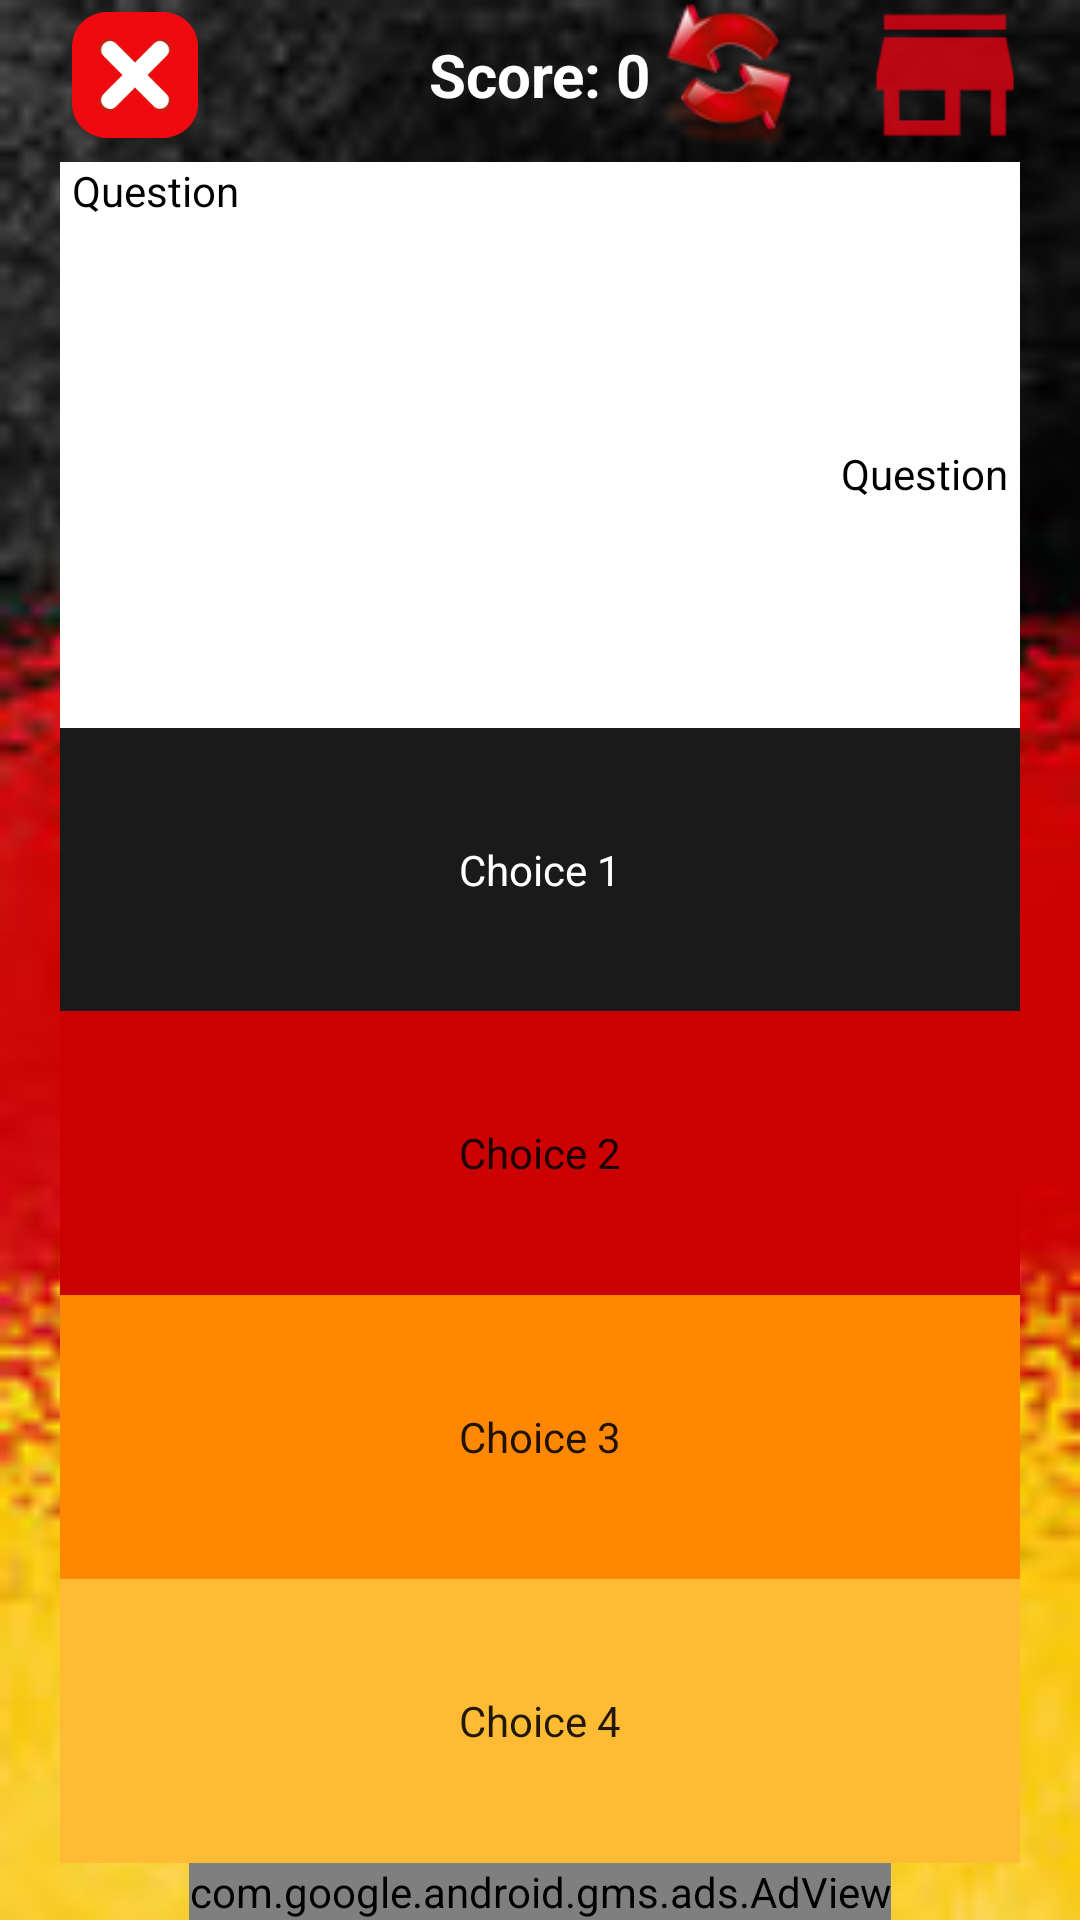

Where icons sit on this 1080*1920 app screen, as (x1, y1, x2, y2):
close: (60, 0, 198, 138)
repeat: (667, 0, 792, 141)
